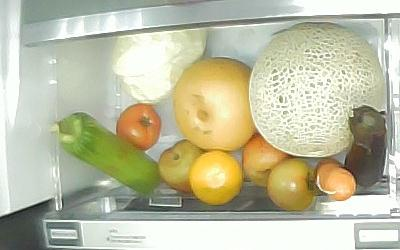cabbage: (110, 28, 208, 103)
carrot: (315, 159, 357, 202)
eggplant: (343, 106, 388, 187)
melon: (248, 23, 388, 157)
pear: (174, 57, 255, 150)
prune: (268, 157, 314, 212), (159, 140, 202, 192), (244, 135, 288, 185)
tangerine: (190, 150, 242, 204)
tomato: (116, 104, 163, 151)
zucchini: (50, 111, 161, 198)
